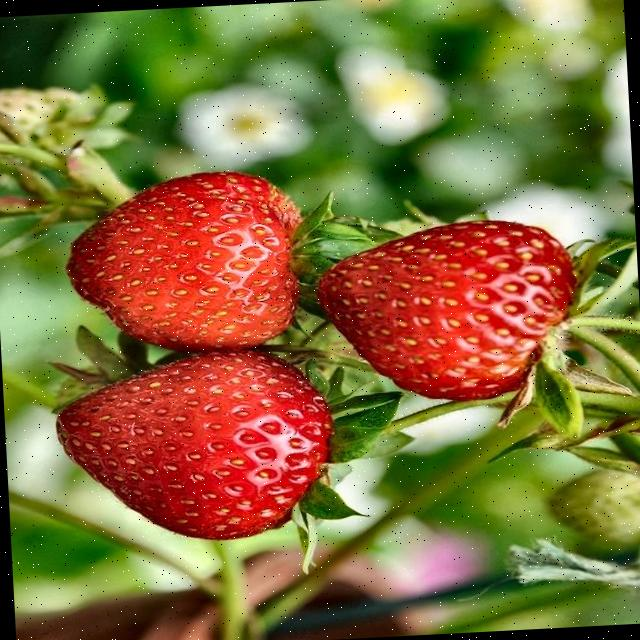strawberry: (56, 350, 332, 539), (319, 219, 576, 400), (67, 171, 300, 350)
